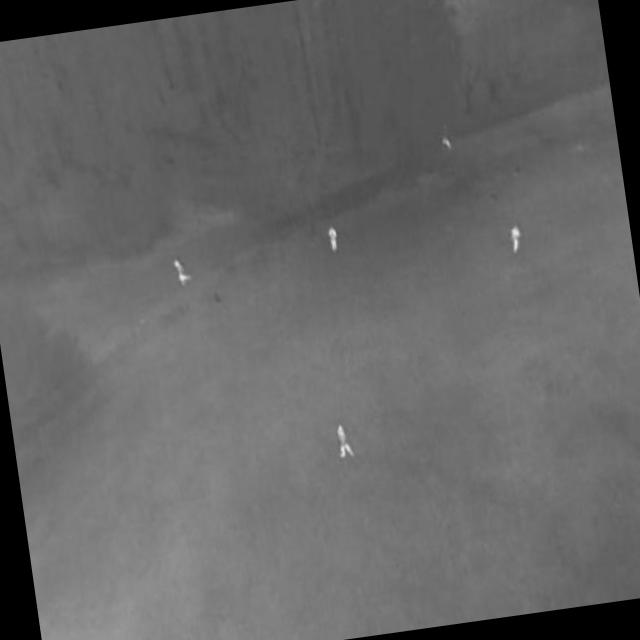person: (336, 425, 356, 460), (174, 258, 194, 289), (509, 223, 525, 255), (440, 124, 454, 153), (327, 226, 341, 255)
